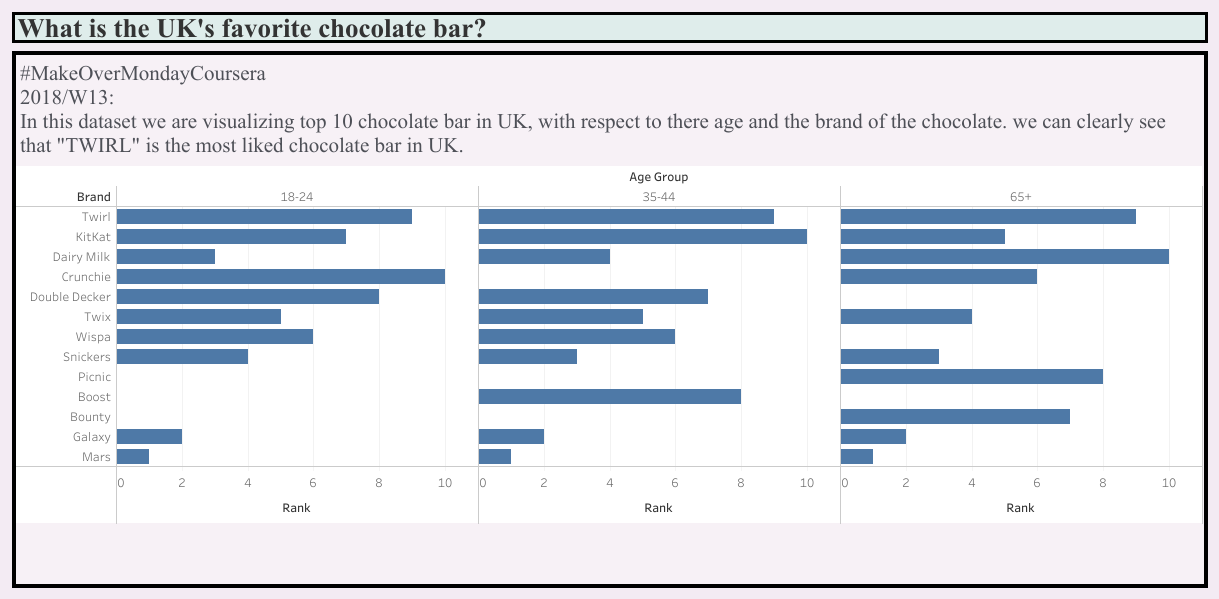

The page's visual inventory and layout, read from the dashboard file:
{"tool":"tableau","page":{"name":"Dashboard 1","canvas":[1100,700],"ordinal":0},"visuals":[{"type":"worksheet","box":[0,0,1100,700]},{"type":"worksheet","param":"vert","box":[10,10,1080,680]},{"type":"worksheet","box":[11,11,1078,48]},{"type":"worksheet","title":"Sheet 1","mark":"Automatic","rows":["Sales"],"cols":["Category"],"box":[17,67,809,270]},{"type":"worksheet","box":[95,72,725,260]},{"type":"worksheet","title":"Sheet 1","mark":"Automatic","rows":["Sales"],"cols":["Category"],"param":"[federated.1igr7o1124heqx1dc84ro19tfowo].[none:Category:nk]","box":[842,117,234,53]},{"type":"worksheet","title":"Sheet 1","mark":"Automatic","rows":["Sales"],"cols":["Category"],"param":"[federated.1igr7o1124heqx1dc84ro19tfowo].[none:Order Date:qk]","box":[843,200,236,70]},{"type":"worksheet","title":"Sheet 3","mark":"Automatic","box":[466,347,617,326]},{"type":"worksheet","title":"Sheet 2","mark":"Circle","box":[17,349,438,325]},{"type":"worksheet","title":"Sheet 3","mark":"Automatic","param":"[federated.1igr7o1124heqx1dc84ro19tfowo].[sum:Quantity:qk]","box":[473,628,200,40]}]}

Visuals, with their boxes on the page's 1100x700 design canvas (x1, y1, x2, y2). These are canvas units, not pixel positions in the 1219x599 screenshot, which may show the page scaled, cropped or inside an application window:
worksheet: crop(0, 0, 1100, 700)
worksheet: crop(10, 10, 1090, 690)
worksheet: crop(11, 11, 1089, 59)
"Sheet 1" worksheet: crop(17, 67, 826, 337)
worksheet: crop(95, 72, 820, 332)
"Sheet 1" worksheet: crop(842, 117, 1076, 170)
"Sheet 1" worksheet: crop(843, 200, 1079, 270)
"Sheet 3" worksheet: crop(466, 347, 1083, 673)
"Sheet 2" worksheet (Circle marks): crop(17, 349, 455, 674)
"Sheet 3" worksheet: crop(473, 628, 673, 668)
